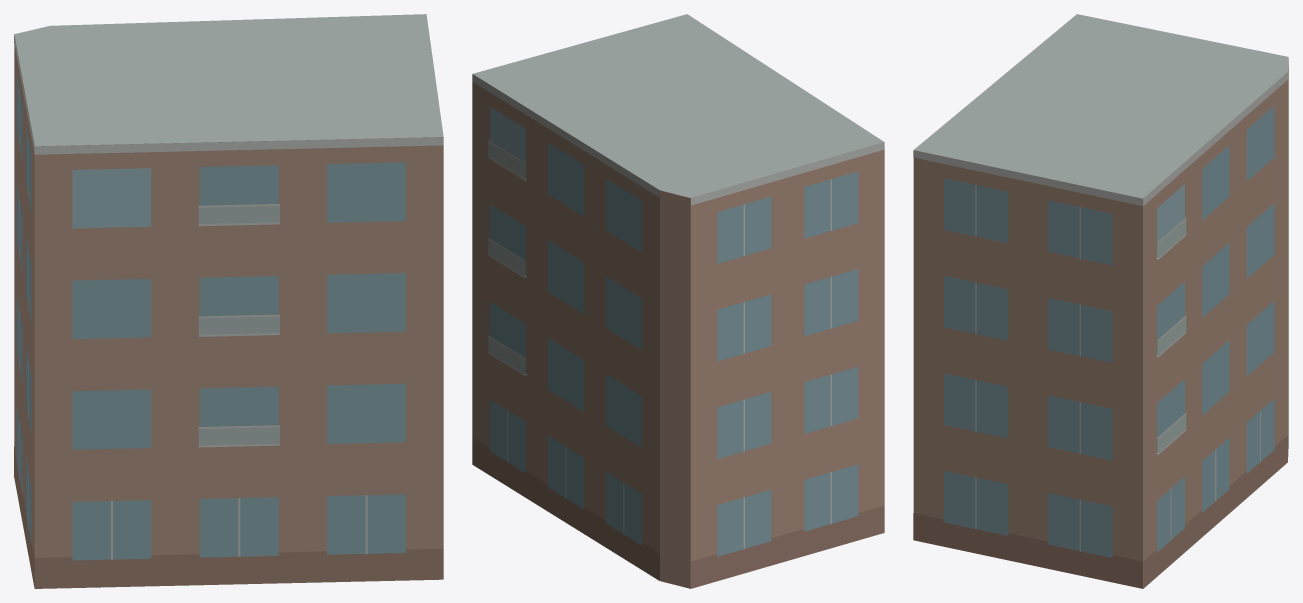
Rendered from survey-upis-32733046.glb.
3 views of the same model, side by side, from view 1: azimuth 30°, elevation 25°; view 2: azimuth 150°, elevation 25°; view 3: azimuth 270°, elevation 25° (orthographic). The views are drawn at different scales.
Parts seen in each view (by area): view 1: survey-upis-32733046.tmp; view 2: survey-upis-32733046.tmp; view 3: survey-upis-32733046.tmp.
Part boxes in pixels (x1=…): survey-upis-32733046.tmp: x1=14, y1=14, x2=443, y2=588; survey-upis-32733046.tmp: x1=472, y1=14, x2=884, y2=588; survey-upis-32733046.tmp: x1=913, y1=14, x2=1288, y2=588.
Bounding box in the file's own units: 12.9 × 12.7 × 11.07.
